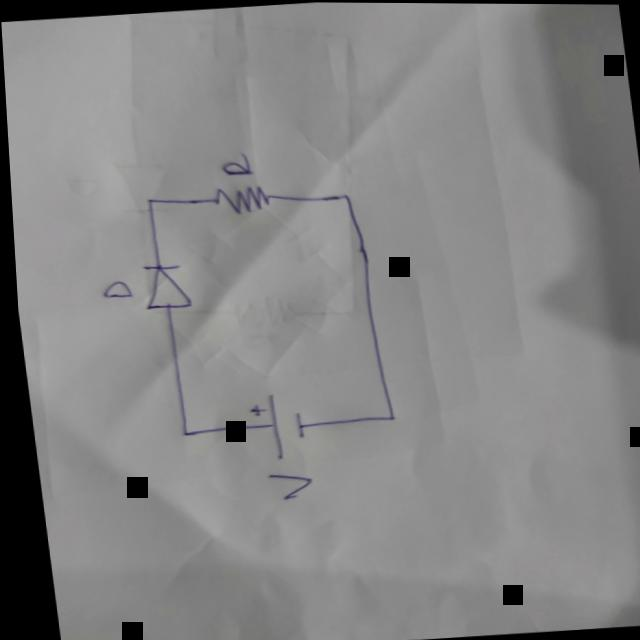diode: (133, 262, 189, 312)
junction: (330, 189, 354, 207), (168, 426, 189, 439), (138, 194, 156, 209), (375, 411, 393, 424)
resistor: (207, 183, 271, 216)
source: (240, 391, 303, 465)
text: (259, 470, 309, 502), (215, 152, 252, 178), (93, 280, 129, 301)
